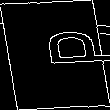P_W: (5, 34, 105, 76)
